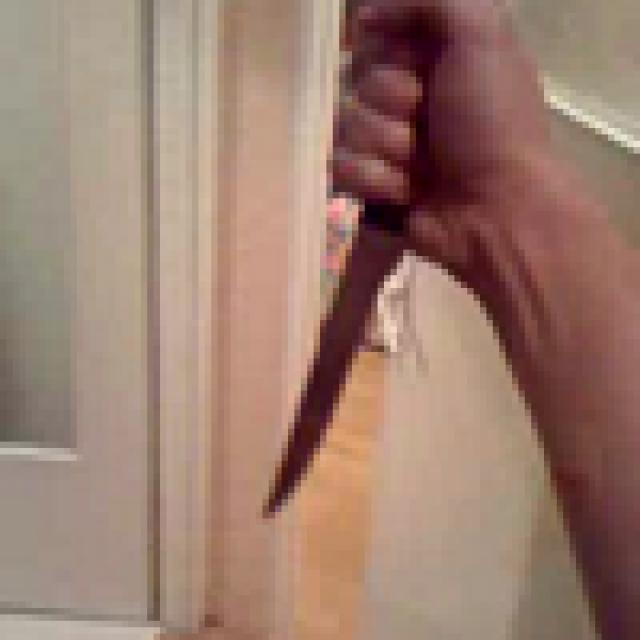knife: (263, 19, 436, 531)
